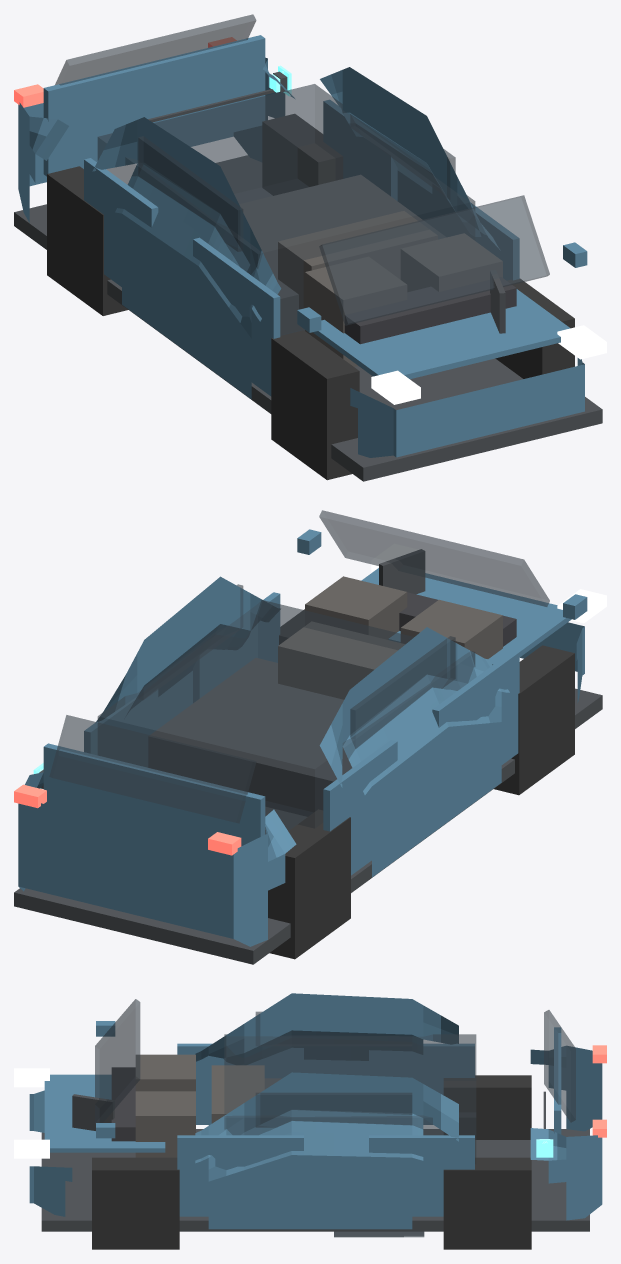
Rendered from fallback_lod2.glb.
3 renders of one model, top to bottom at view 1: azimuth 30°, elevation 25°; view 2: azimuth 150°, elevation 25°; view 3: azimuth 270°, elevation 25°, orthographic. The views are drawn at different scales.
Parts seen in each view (by area): view 1: body_mesh, cab_mesh, windshield, liftgate_mesh, trim_mesh, tire_fr, frunk_mesh, wheel_well_mesh, tire_rr, seat_rear, dash, seat_r (+13 smaller); view 2: body_mesh, cab_mesh, wheel_well_mesh, liftgate_mesh, rear_glass, windshield, tire_rr, trim_mesh, tire_fr, seat_rear, frunk_mesh, window_fixed_r (+12 smaller); view 3: body_mesh, cab_mesh, trim_mesh, tire_fl, tire_rl, window_fixed_l, tire_rr, door_fl_mesh, frunk_mesh, door_rl_mesh, windshield, door_rr_mesh (+12 smaller).
Boxes of the visible parts, box(x1,y1,x2,y2) form: body_mesh: box(18, 57, 584, 457); cab_mesh: box(97, 84, 475, 335); windshield: box(319, 195, 549, 325); liftgate_mesh: box(43, 35, 265, 176); trim_mesh: box(14, 155, 602, 481); tire_fr: box(271, 330, 359, 480); frunk_mesh: box(313, 289, 570, 379); wheel_well_mesh: box(239, 174, 445, 335); tire_rr: box(47, 166, 127, 315); seat_rear: box(278, 211, 437, 309); dash: box(344, 277, 516, 344); seat_r: box(305, 257, 406, 366); body_mesh: box(18, 576, 584, 946); cab_mesh: box(97, 600, 475, 834); wheel_well_mesh: box(148, 658, 351, 816); liftgate_mesh: box(43, 743, 265, 846); rear_glass: box(49, 715, 256, 823); windshield: box(319, 510, 549, 606); tire_rr: box(268, 809, 350, 959); trim_mesh: box(14, 688, 602, 964); tire_fr: box(494, 645, 574, 795); seat_rear: box(278, 621, 404, 699); frunk_mesh: box(361, 568, 571, 664); window_fixed_r: box(350, 636, 455, 748); body_mesh: box(29, 993, 602, 1229); cab_mesh: box(224, 1034, 476, 1163); trim_mesh: box(41, 1129, 589, 1231); tire_fl: box(92, 1157, 179, 1249); tire_rl: box(443, 1157, 531, 1249); window_fixed_l: box(255, 1092, 412, 1127); tire_rr: box(443, 1075, 531, 1139); door_fl_mesh: box(177, 1135, 303, 1216); frunk_mesh: box(44, 1074, 165, 1152); door_rl_mesh: box(369, 1135, 474, 1216); windshield: box(95, 999, 140, 1123); door_rr_mesh: box(369, 1044, 474, 1124).
Size of the model in its own units: 2.09 by 1.86 by 4.92.
